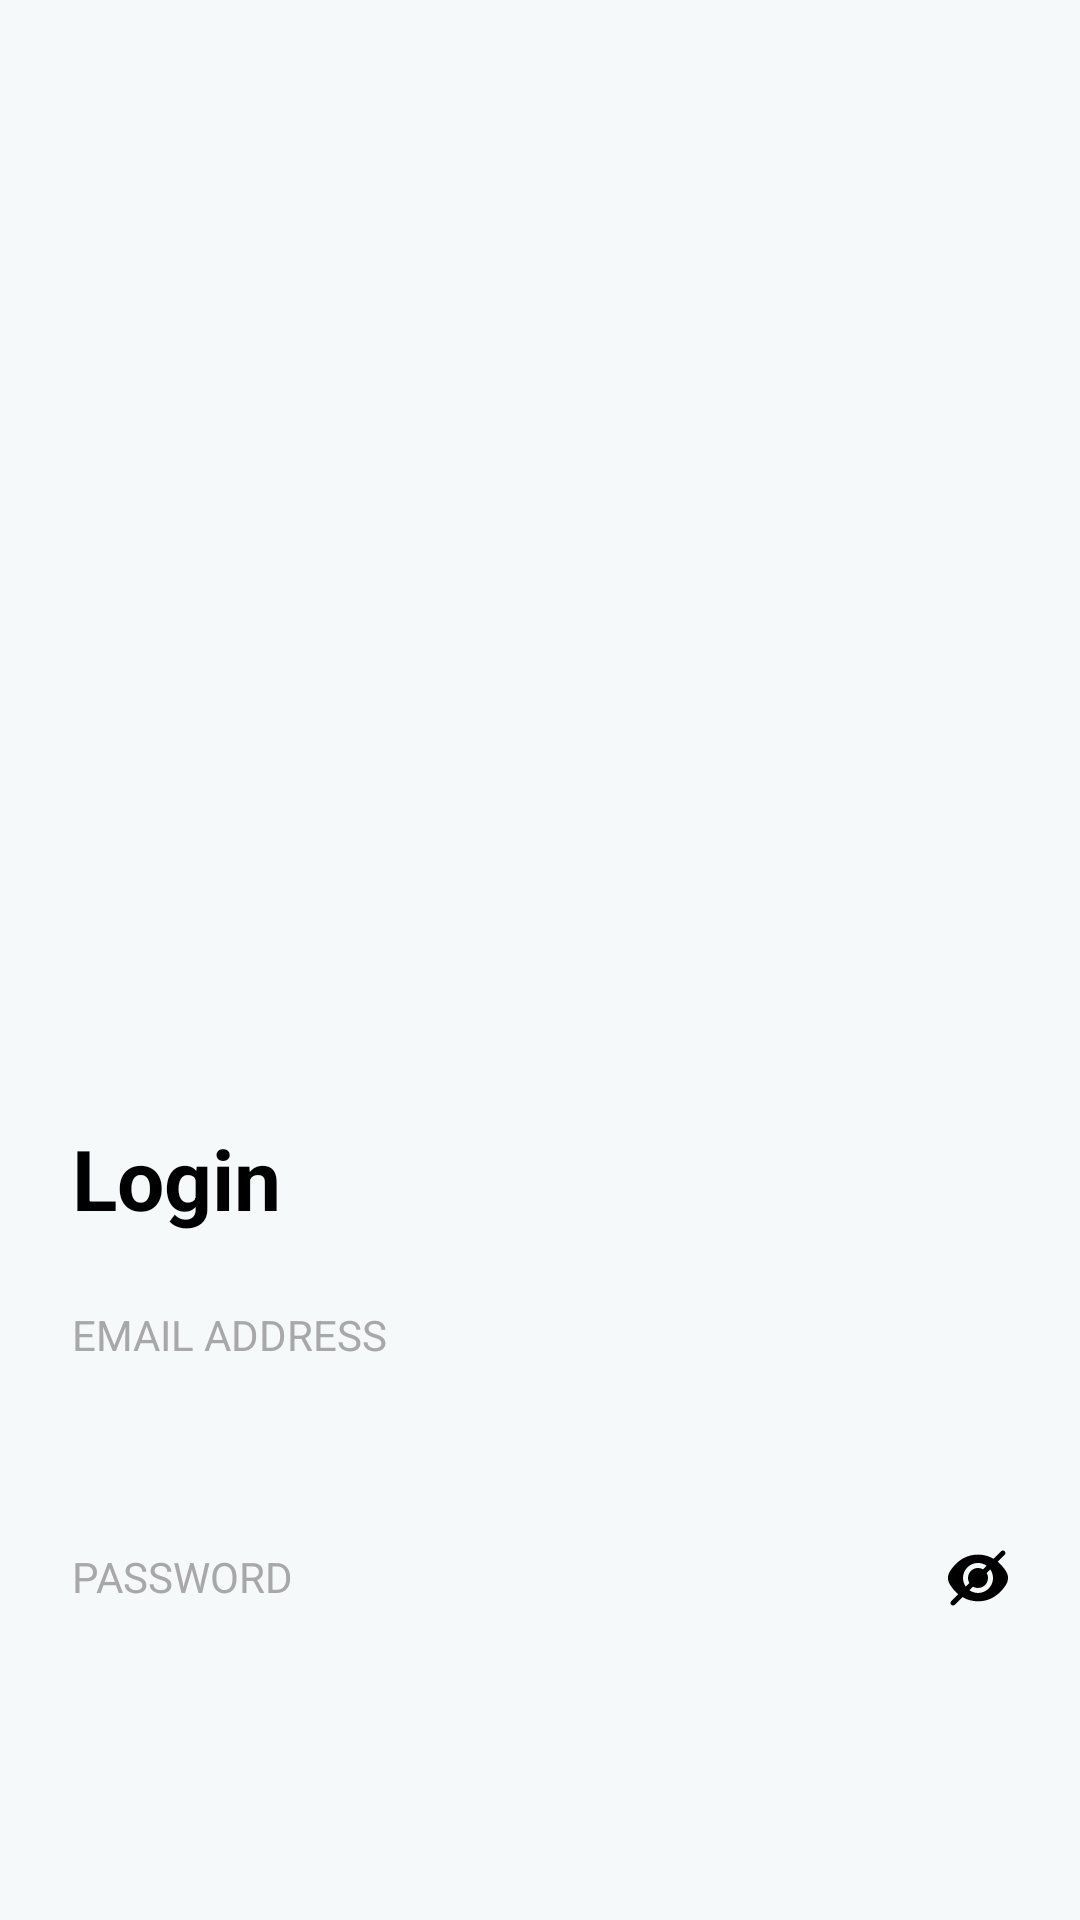

Screen size 1080*1920. Icon name, then its box in pixels as bbox=(x1, y1, x2, y2):
eye crossed: bbox=(948, 1550, 1008, 1606)
